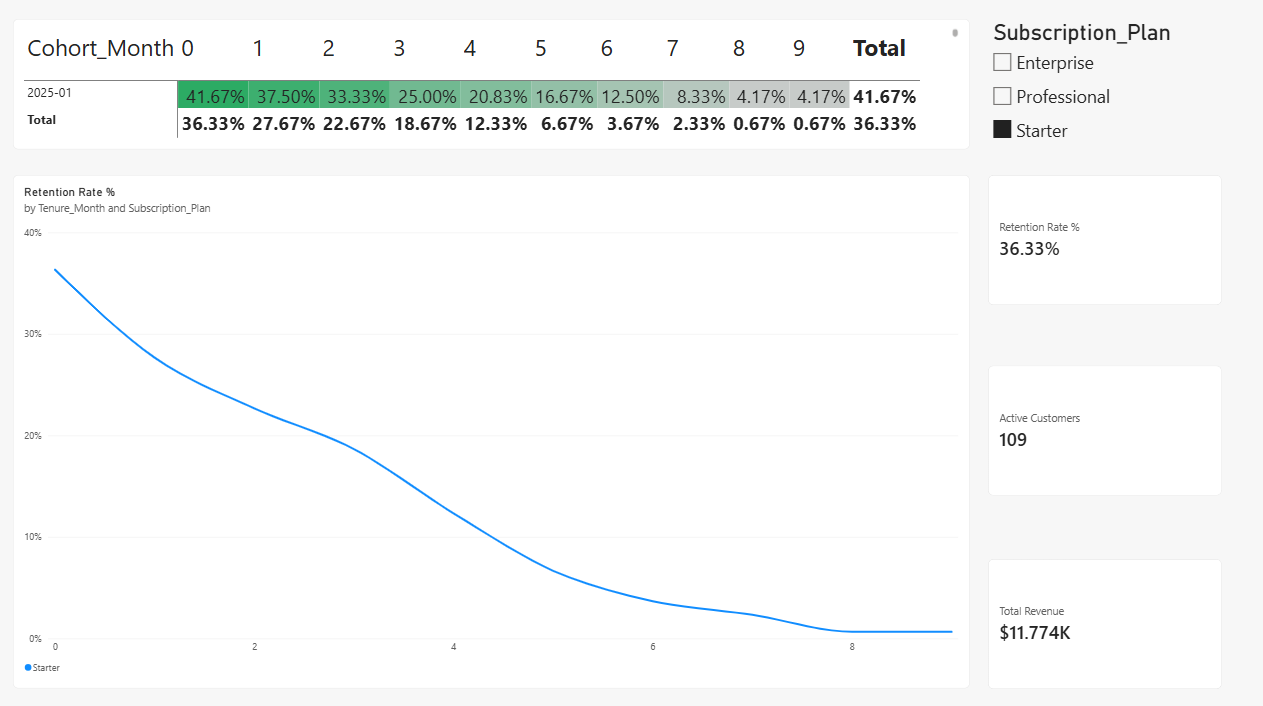

The dashboard page shown, as its layout file describes it:
{"tool":"powerbi","page":{"name":"Page 1","canvas":[1920,1080],"ordinal":0},"visuals":[{"type":"cardVisual","fields":{"Data":["_Measures.Active Customers"]},"box":[1592.2,563.3,327.1,197.6],"z":0},{"type":"cardVisual","fields":{"Data":["_Measures.Total Revenue"]},"box":[1592.2,883.5,327.1,197.6],"z":1000},{"type":"cardVisual","fields":{"Data":["_Measures.Retention Rate %"]},"box":[1592.2,254.4,327.1,197.6],"z":2000},{"type":"slicer","fields":{"Values":["Cleaned_Logs.Subscription_Plan"]},"box":[1592.2,0,327.1,206.7],"z":3000},{"type":"pivotTable","fields":{"Columns":["Cleaned_Logs.Tenure_Month"],"Values":["_Measures.Retention Rate %"],"Rows":["Cleaned_Logs.Cohort_Month"]},"box":[0,0,1592.2,708.6],"z":4000},{"type":"lineChart","fields":{"Category":["Cleaned_Logs.Tenure_Month"],"Y":["_Measures.Retention Rate %"],"Series":["Cleaned_Logs.Subscription_Plan"]},"box":[0,708.6,1592.2,370.2],"z":5000}]}

Visuals, with their boxes in screenshot pixels (x1, y1, x2, y2), scaled from the page's 1920x1080 canvas onto the 1263x706 screenshot:
cardVisual - _Measures.Active Customers: detection(1047, 368, 1262, 497)
cardVisual - _Measures.Total Revenue: detection(1047, 578, 1262, 705)
cardVisual - _Measures.Retention Rate %: detection(1047, 166, 1262, 295)
slicer - Cleaned_Logs.Subscription_Plan: detection(1047, 0, 1262, 135)
pivotTable - Cleaned_Logs.Tenure_Month x _Measures.Retention Rate %: detection(0, 0, 1047, 463)
lineChart - Cleaned_Logs.Tenure_Month x _Measures.Retention Rate %: detection(0, 463, 1047, 705)
